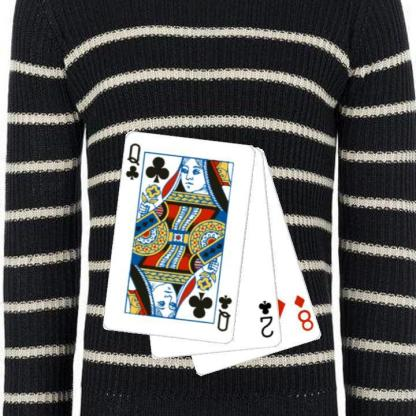2C: (256, 298, 275, 339)
8D: (292, 292, 315, 333)
QC: (215, 292, 234, 334), (123, 140, 142, 182)
